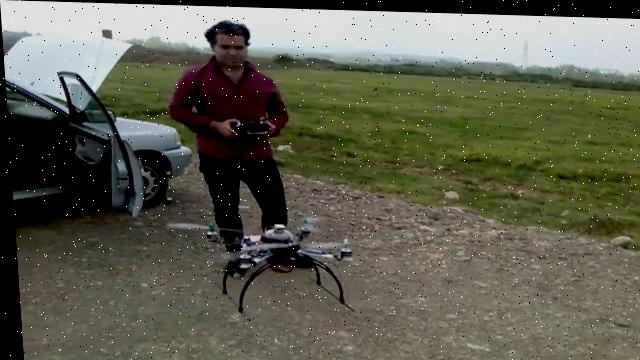drone: (159, 206, 360, 325)
